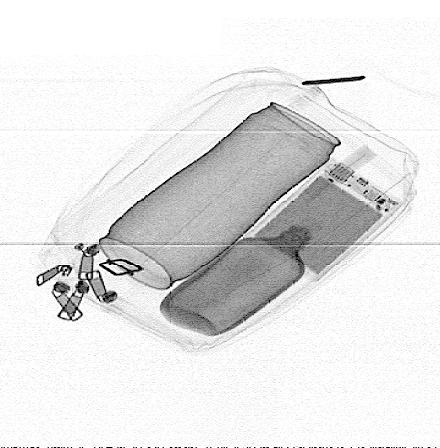Powerbank: (246, 158, 407, 283)
